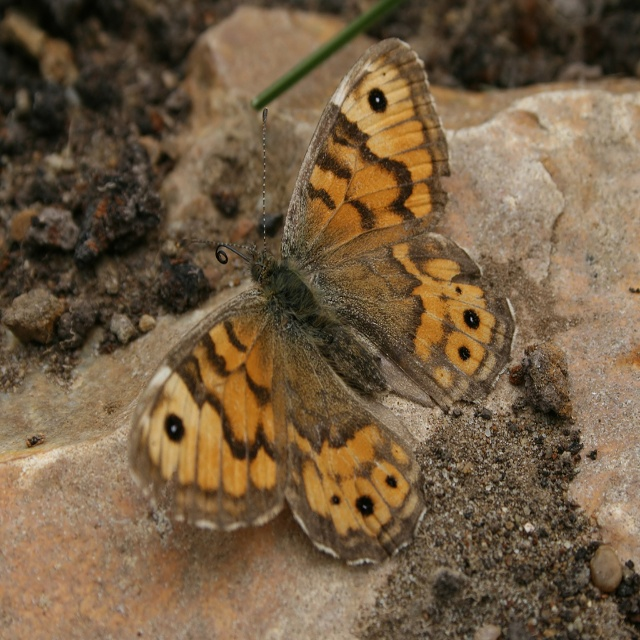Butterfly: (128, 26, 484, 596)
